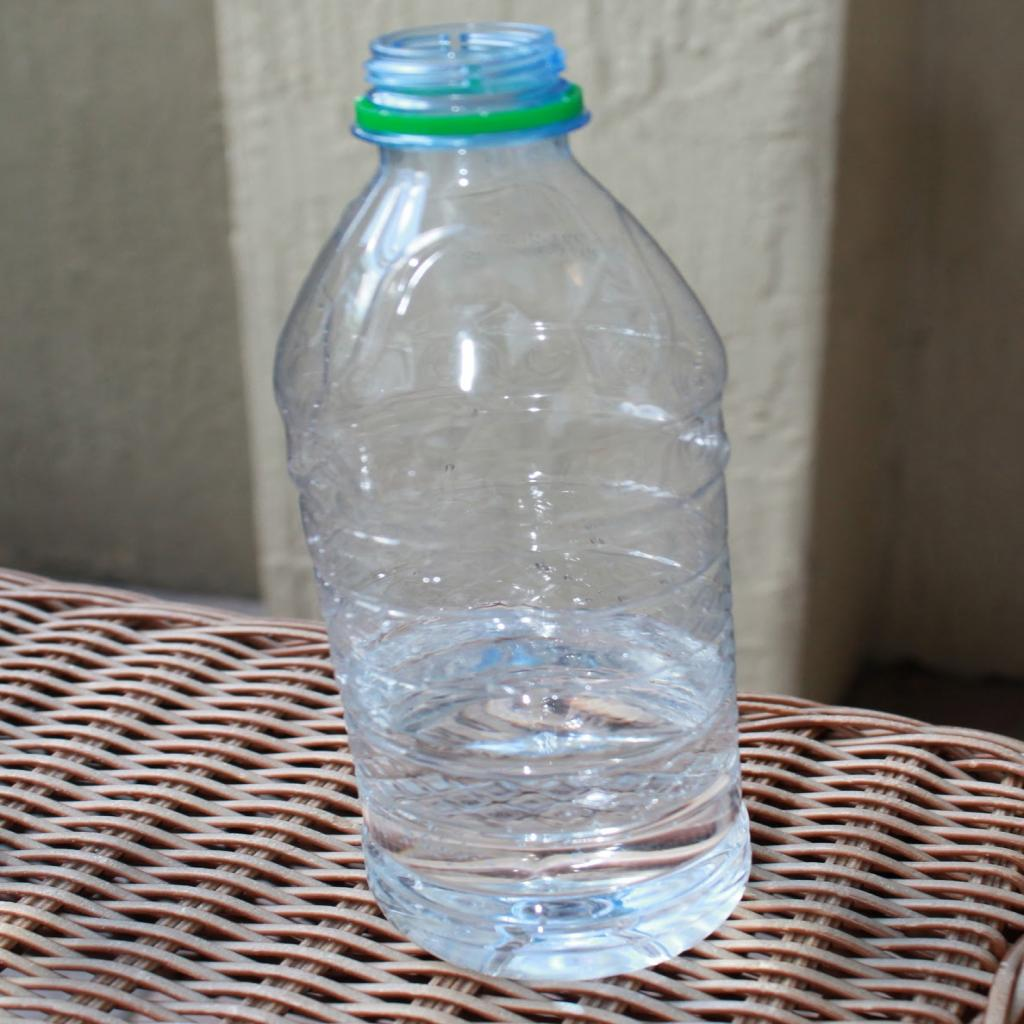organico: (265, 11, 774, 986)
